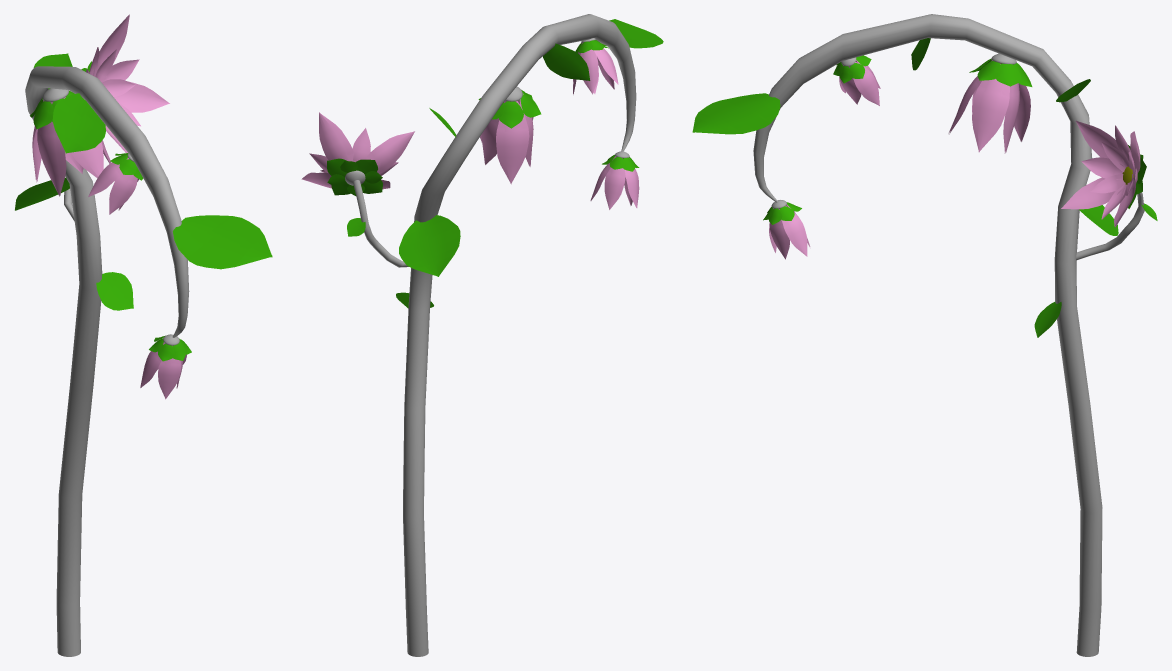
The model's file is Fairy_Lamp_Tall.fbx.
3 views of the same model, side by side, from view 1: azimuth 30°, elevation 25°; view 2: azimuth 150°, elevation 25°; view 3: azimuth 270°, elevation 25° (orthographic). The views are drawn at different scales.
Visible parts, largest first — view 1: group47; view 2: group47; view 3: group47.
Part boxes in pixels (x1,y1,x2,y2): group47: [15, 14, 272, 656]; group47: [301, 14, 663, 656]; group47: [692, 14, 1157, 656].
Size of the model in its own units: 73.37 by 210 by 145.
